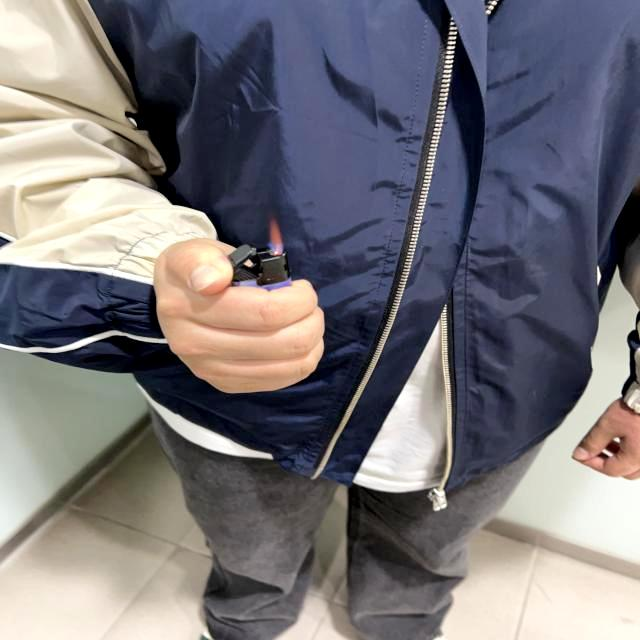fire: (265, 217, 283, 255)
